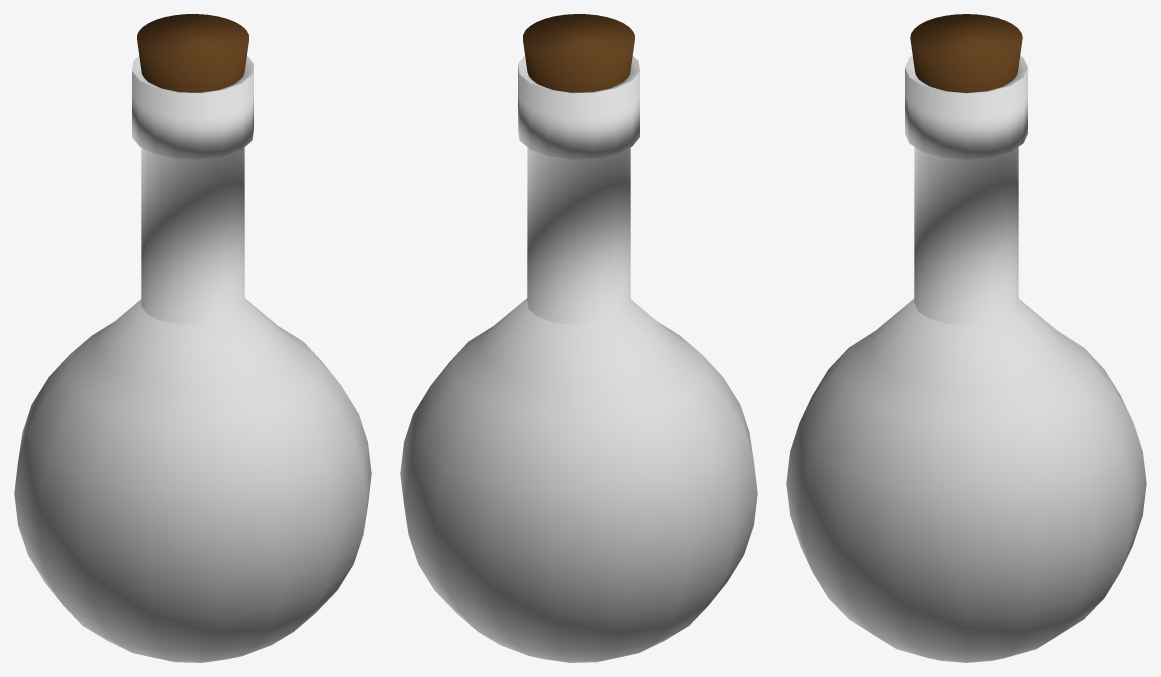
The model's file is Potion1.fbx.
The picture shows the model from 3 angles, left to right: view 1: azimuth 30°, elevation 25°; view 2: azimuth 150°, elevation 25°; view 3: azimuth 270°, elevation 25°; orthographic projection.
Visible parts, largest first — view 1: Vidro1, Rolha1; view 2: Vidro1, Rolha1; view 3: Vidro1, Rolha1.
Part boxes in pixels (bbox=[...]): Vidro1: bbox=[14, 55, 371, 662]; Rolha1: bbox=[137, 14, 248, 92]; Vidro1: bbox=[400, 55, 757, 662]; Rolha1: bbox=[523, 14, 634, 92]; Vidro1: bbox=[786, 56, 1146, 662]; Rolha1: bbox=[910, 14, 1022, 92].
Bounding box in the file's own units: 52.61 × 98.02 × 52.61.
